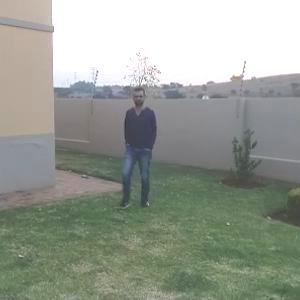follow: (119, 85, 159, 201)
